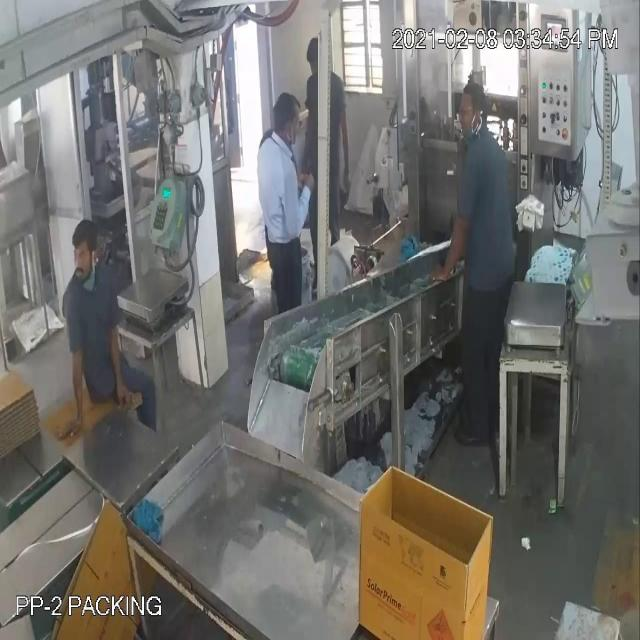No_Gloves: (26, 86, 447, 391)
